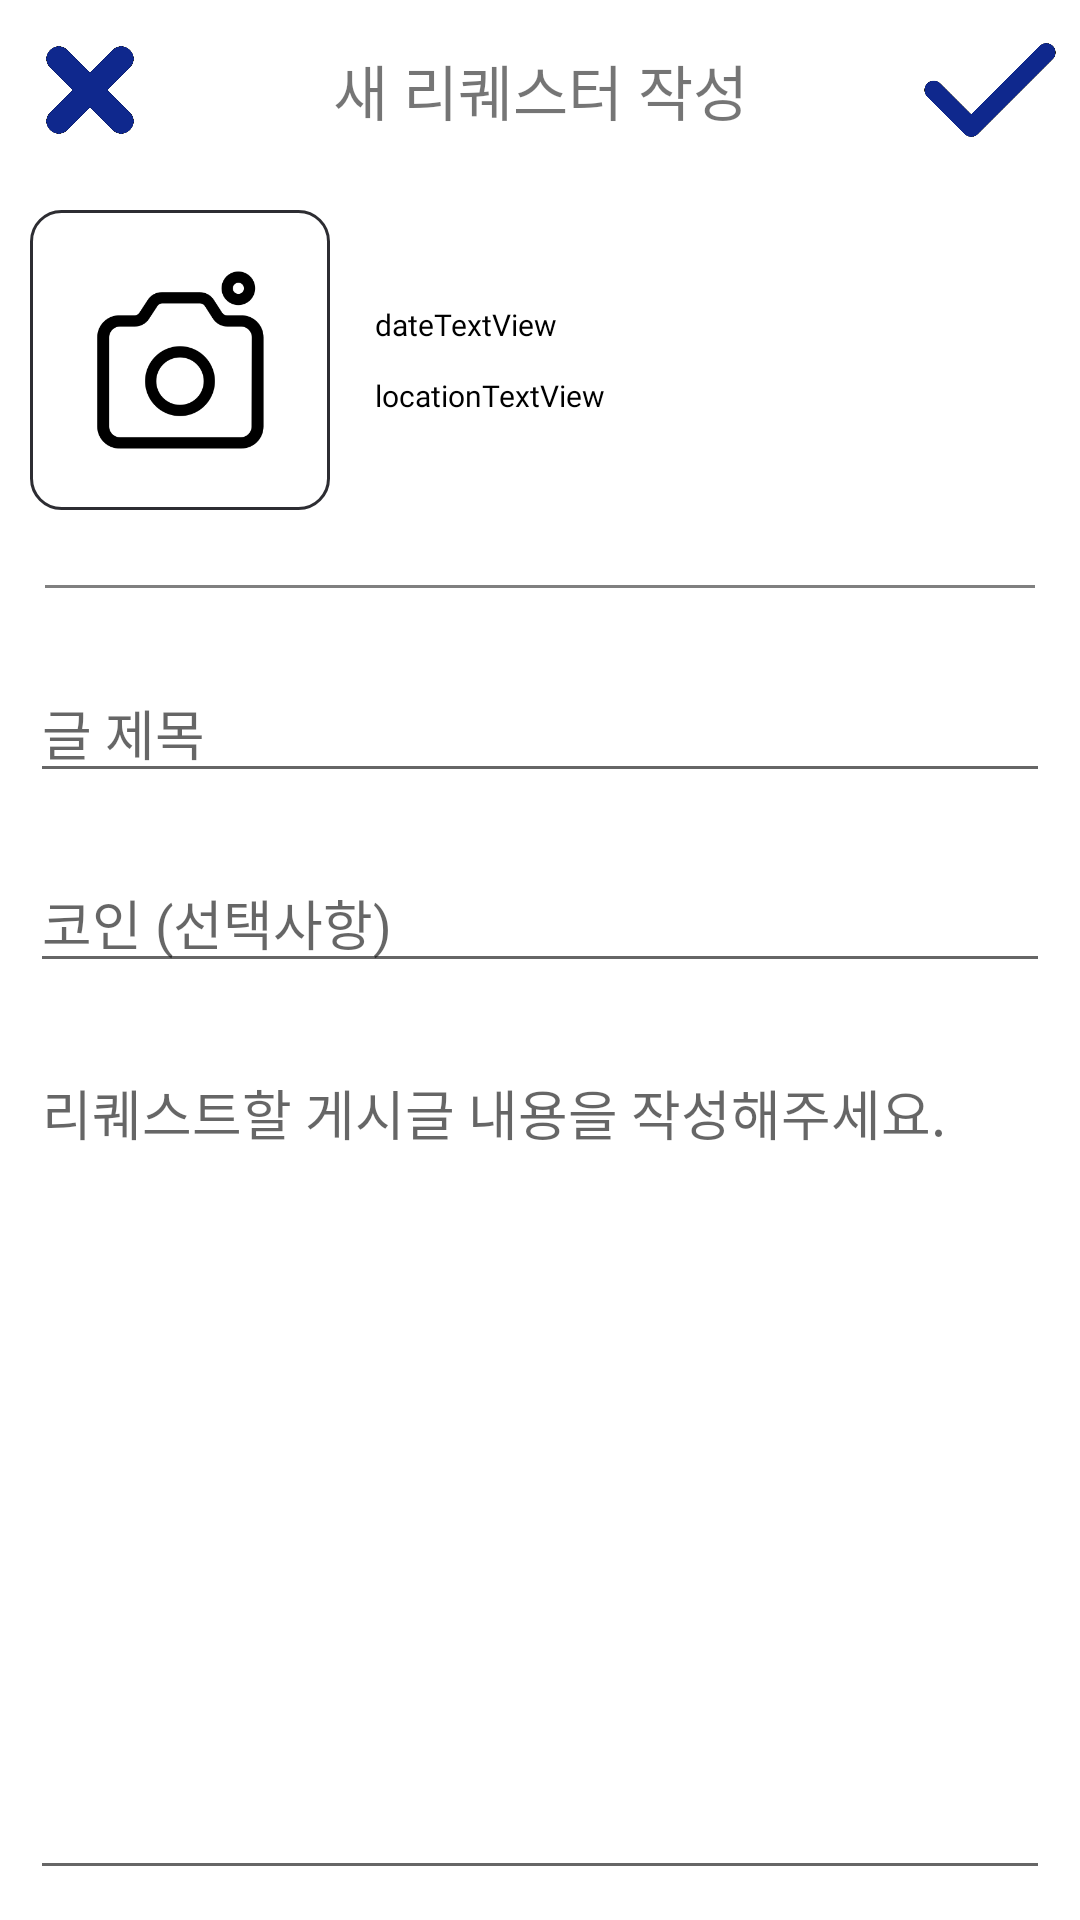

Locate icon controls on the screen. Image size 1080*1920, boxes as (x1, y1, x2, y2).
exit: (46, 46, 134, 134)
